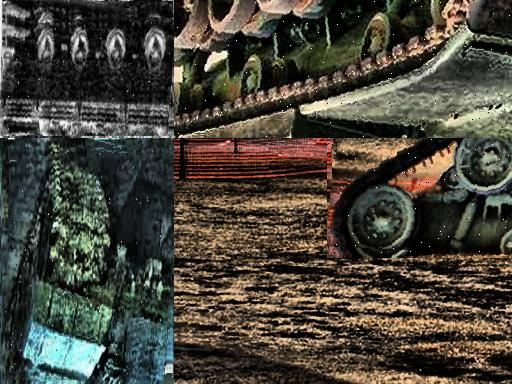tanks: (175, 1, 512, 139), (4, 149, 173, 384), (328, 139, 512, 254), (1, 21, 175, 138)
